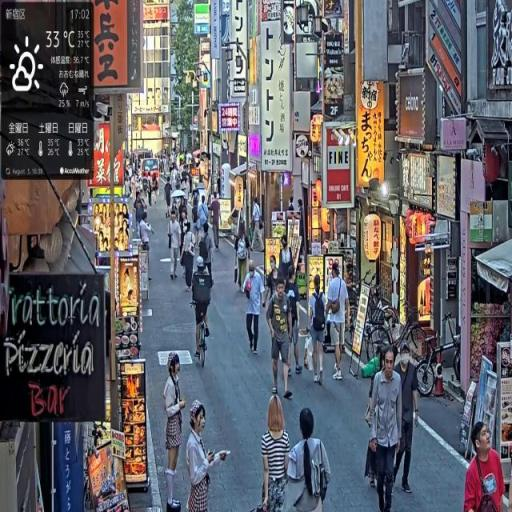person: (365, 348, 405, 512), (186, 400, 229, 512), (287, 408, 333, 512), (393, 345, 421, 498), (465, 421, 508, 512), (259, 394, 292, 512), (164, 353, 187, 511), (268, 276, 295, 405), (325, 261, 352, 384), (309, 275, 329, 388), (285, 266, 303, 380), (244, 260, 265, 357), (168, 209, 183, 284), (182, 213, 196, 292), (211, 193, 223, 251)
